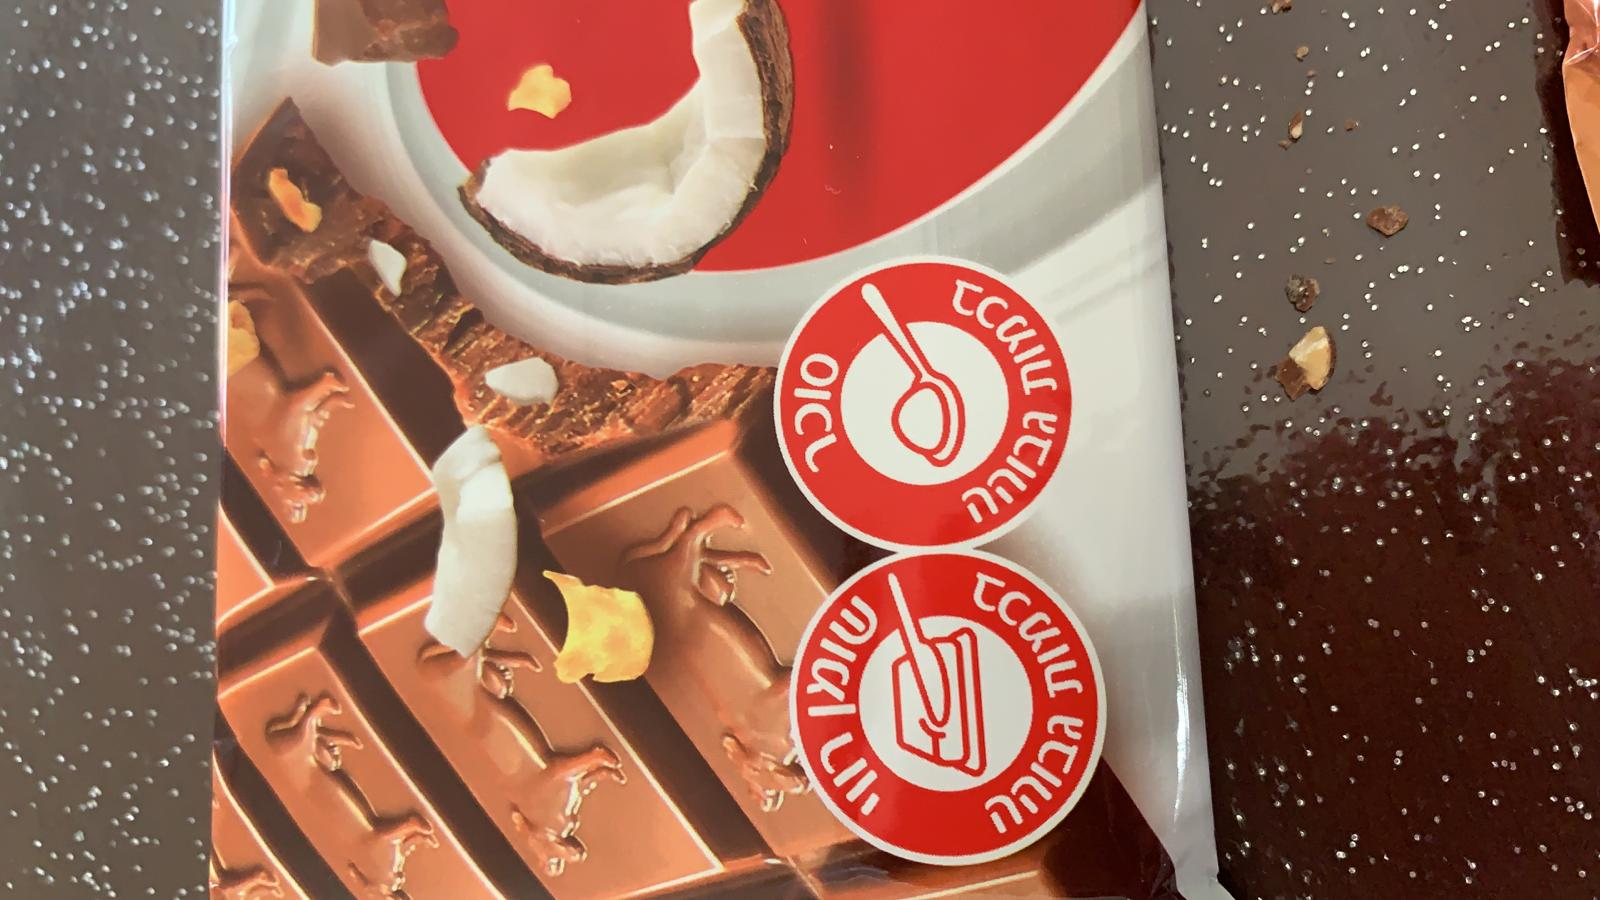fat: (790, 551, 1107, 868)
sugar: (773, 254, 1075, 553)
